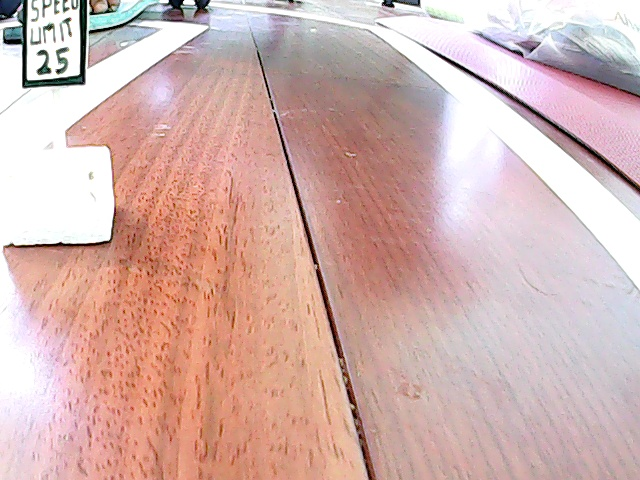speed_25: (4, 1, 133, 249)
